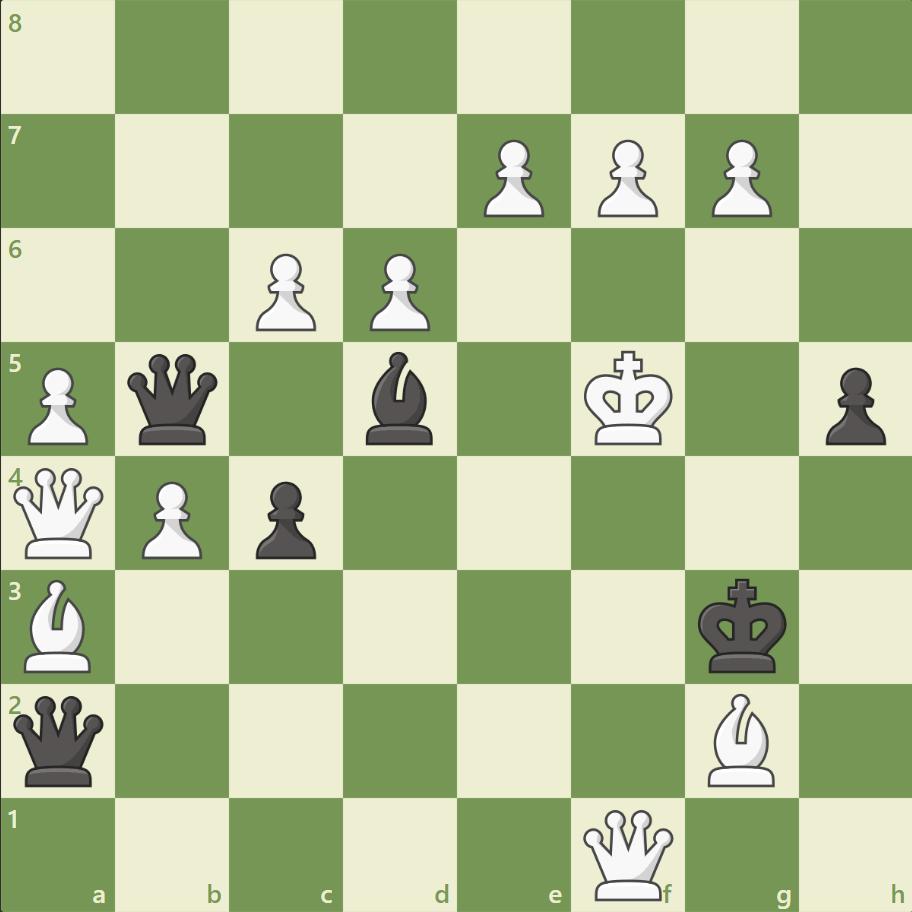B: (698, 687, 782, 790), (17, 574, 101, 676)
K: (579, 344, 679, 452)
P: (474, 132, 549, 223), (701, 132, 776, 223), (247, 246, 322, 337), (20, 359, 95, 450), (133, 473, 208, 564), (588, 132, 662, 223), (361, 246, 435, 337)
Q: (10, 463, 109, 562), (578, 804, 677, 903)
b: (358, 347, 442, 449)
k: (692, 571, 792, 679)
p: (247, 473, 322, 564), (815, 359, 889, 450)
q: (124, 349, 223, 449), (10, 690, 109, 789)
